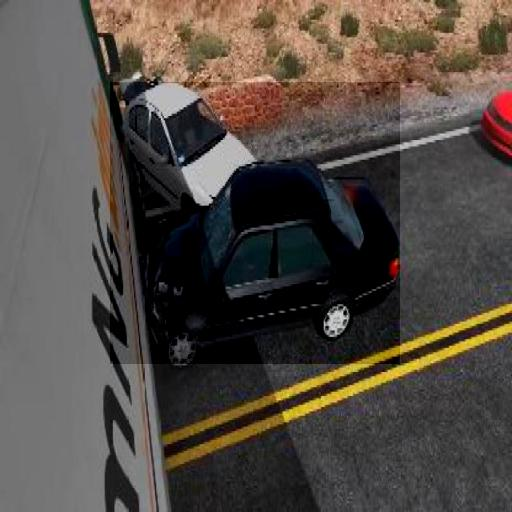小汽车撞小汽车: (110, 82, 400, 364)
